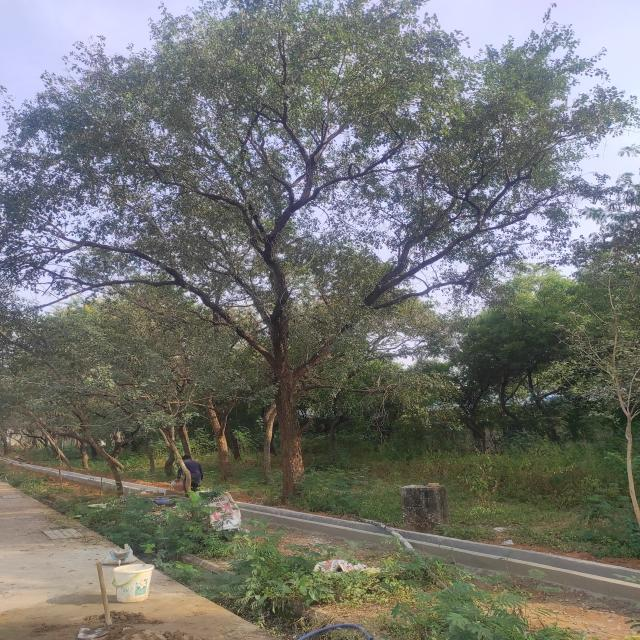Devakanchan tree: (41, 13, 506, 466)
